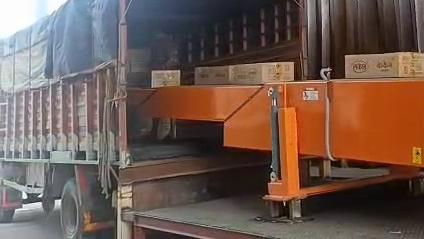box: (343, 53, 424, 78), (230, 62, 294, 84), (195, 66, 231, 84), (151, 70, 180, 87)
